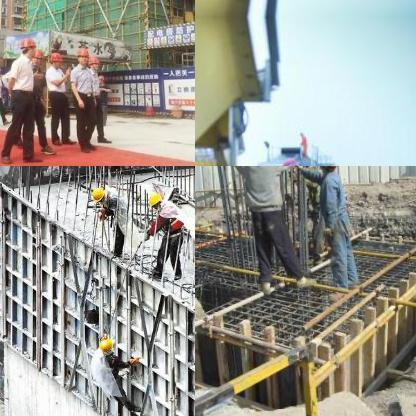Helmet: (95, 337, 115, 357), (19, 34, 36, 57), (86, 185, 104, 205), (144, 190, 162, 210), (29, 43, 43, 66), (74, 46, 88, 66), (47, 50, 62, 66), (278, 156, 301, 165), (87, 54, 99, 70), (317, 166, 339, 173), (0, 60, 4, 76)
